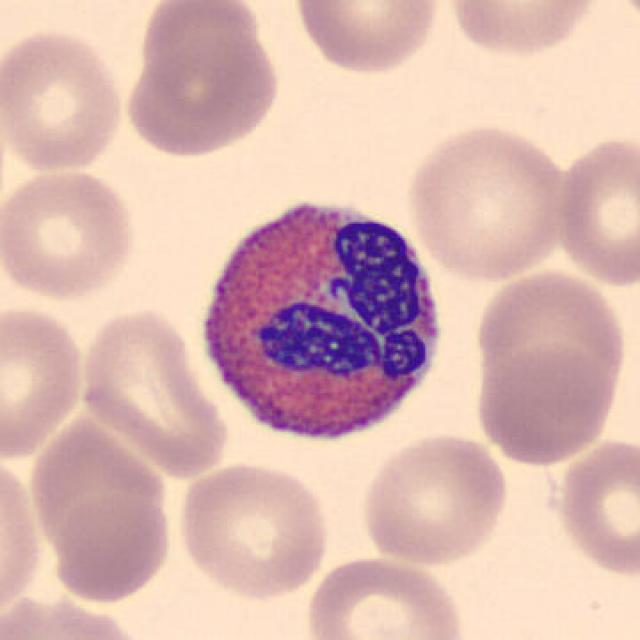Eosinophil: (188, 182, 457, 460)
RBC: (75, 302, 233, 482), (402, 118, 572, 284), (468, 266, 631, 430), (172, 458, 334, 603), (119, 26, 285, 160), (356, 430, 512, 568), (0, 162, 140, 305), (2, 23, 128, 176), (469, 344, 624, 467), (39, 483, 178, 607), (301, 552, 471, 640), (0, 300, 89, 463), (553, 130, 638, 291), (553, 434, 640, 580), (286, 0, 446, 78), (133, 0, 268, 86), (439, 0, 606, 60), (0, 448, 46, 628), (0, 587, 156, 640), (606, 0, 640, 39)
